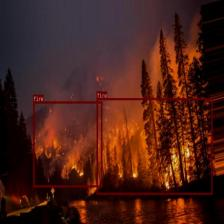fire: (96, 98, 213, 194), (33, 101, 102, 187)
